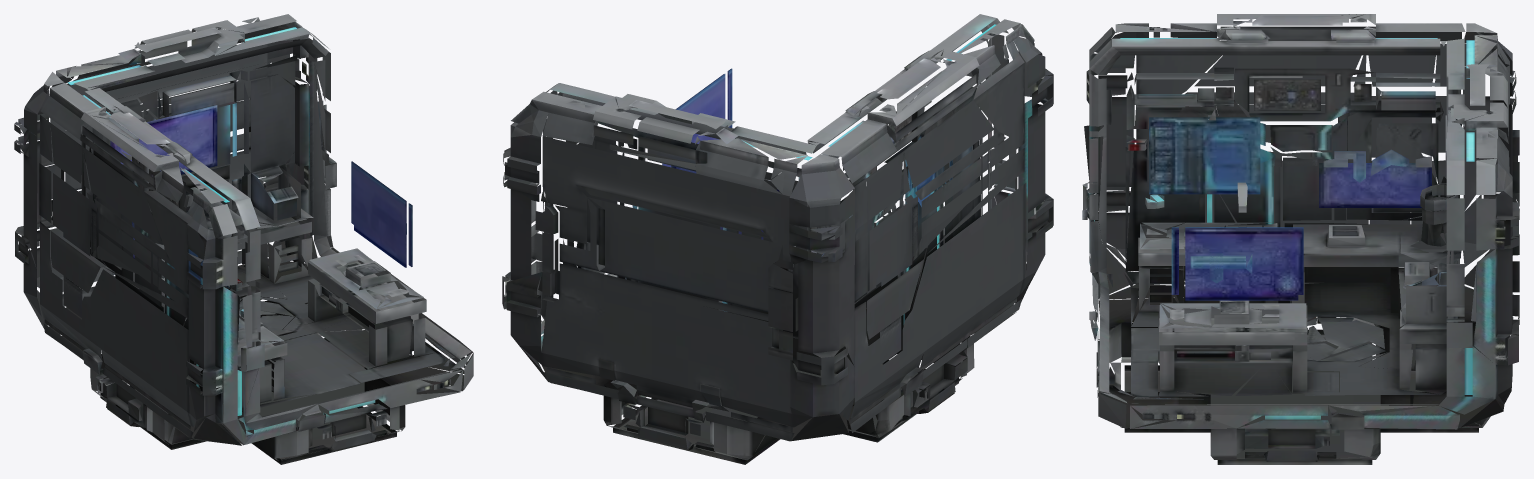
File: research_module_LOD2.glb
3 renders of one model, left to right at view 1: azimuth 30°, elevation 25°; view 2: azimuth 150°, elevation 25°; view 3: azimuth 270°, elevation 25°, orthographic. The views are drawn at different scales.
Parts seen in each view (by area): view 1: research_module_LOD2; view 2: research_module_LOD2; view 3: research_module_LOD2.
Part boxes in pixels (left/top/right/bottom): research_module_LOD2: left=14, top=14, right=473, bottom=464; research_module_LOD2: left=502, top=14, right=1053, bottom=464; research_module_LOD2: left=1082, top=14, right=1519, bottom=464.
Size of the model in its own units: 0.8082 by 0.7593 by 0.9472.
Materials: 1 (1 with a texture image).
